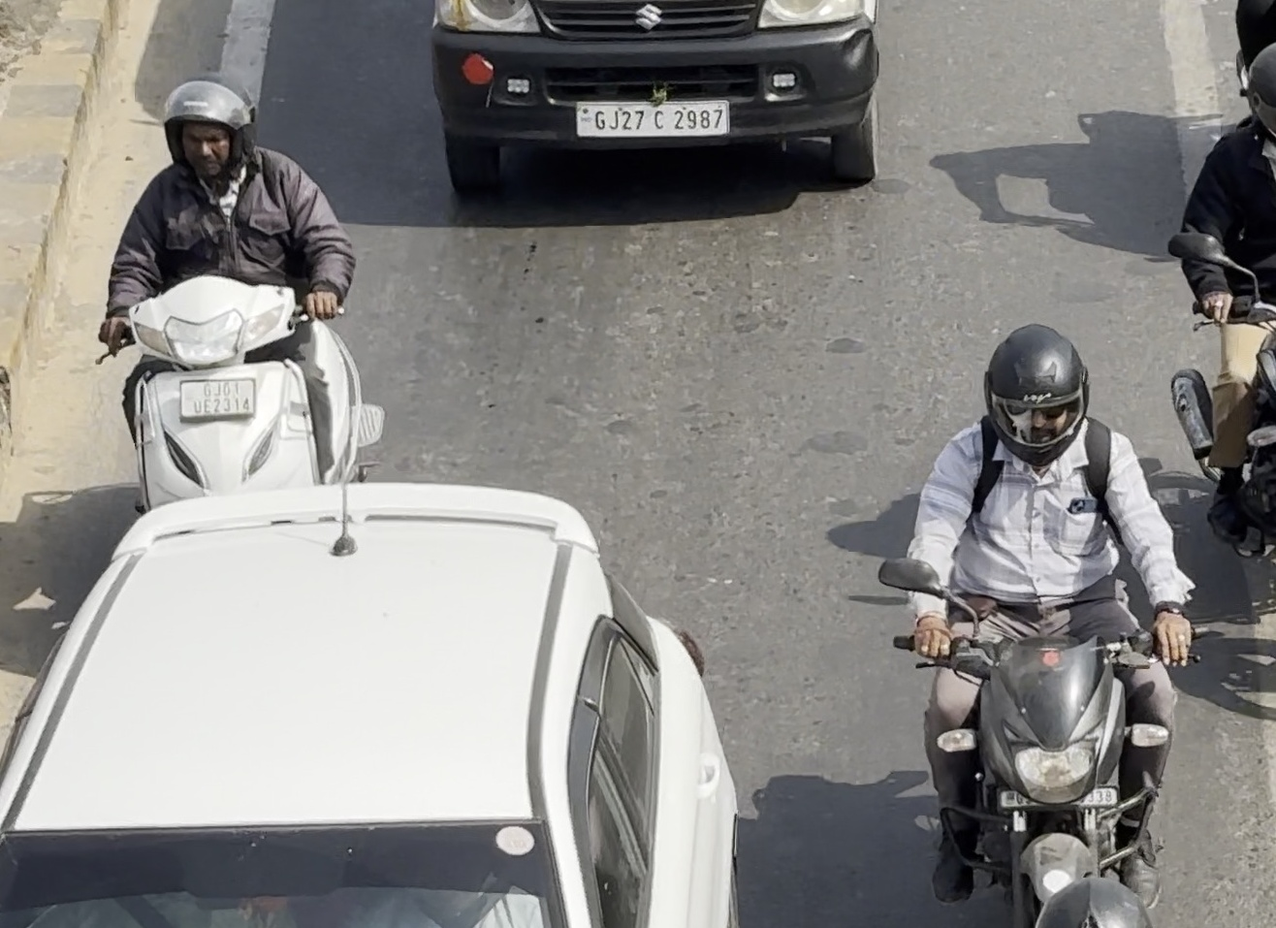BikeWithRider: (867, 309, 1209, 928), (81, 67, 396, 551), (1155, 26, 1276, 683)
Helmet: (967, 310, 1105, 465), (144, 68, 270, 195), (1231, 27, 1275, 161)
